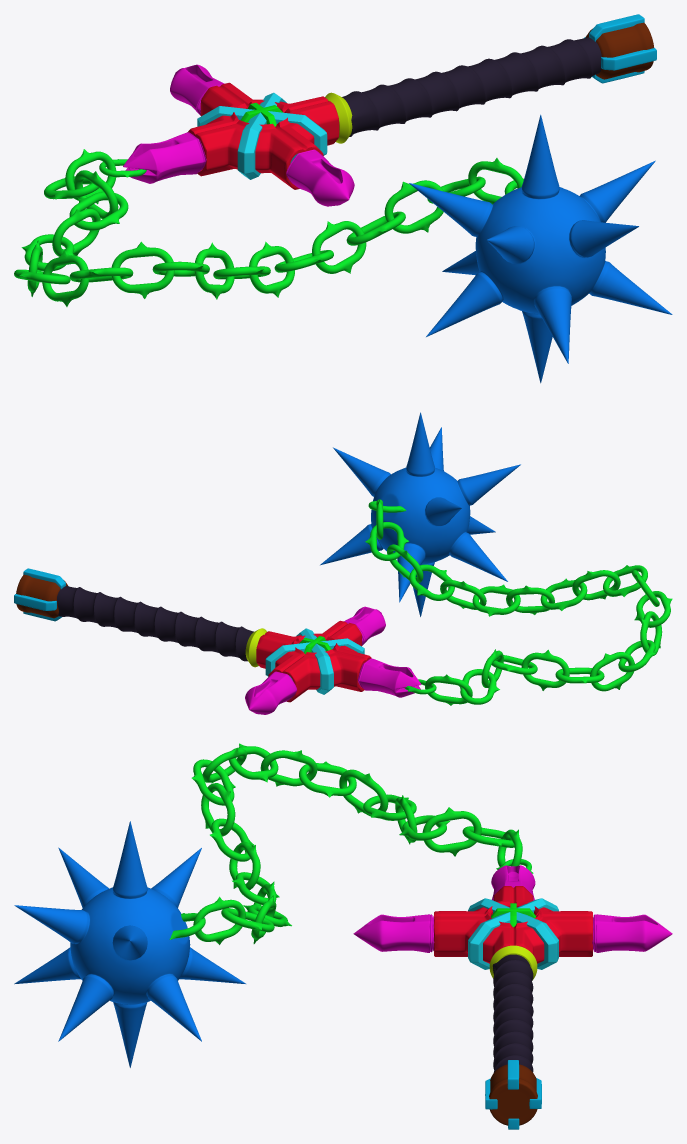
Rendered from mujvtrajis9-h1d.fbx.
3 renders of one model, top to bottom at view 1: azimuth 30°, elevation 25°; view 2: azimuth 150°, elevation 25°; view 3: azimuth 270°, elevation 25°, orthographic. The views are drawn at different scales.
Parts seen in each view (by area): view 1: Icosphere, Torus.024, Plane, Circle, Circle.002, Cube.001, Cylinder.001, Cube.003, Cylinder; view 2: Icosphere, Torus.024, Plane, Circle, Circle.002, Cube.001, Cylinder.001, Cube.003; view 3: Icosphere, Torus.024, Circle, Circle.002, Plane, Cube.001, Cylinder.001, Cube.003, Cylinder.
Boxes of the visible parts, x1,y1,x2,y2 form: Icosphere: [409, 114, 672, 383]; Torus.024: [14, 149, 523, 306]; Plane: [342, 37, 601, 136]; Circle: [187, 82, 339, 189]; Circle.002: [123, 64, 354, 206]; Cube.001: [197, 92, 327, 179]; Cylinder.001: [585, 22, 654, 79]; Cube.003: [584, 14, 656, 83]; Cylinder: [325, 92, 352, 143]; Icosphere: [320, 412, 520, 616]; Torus.024: [365, 499, 672, 705]; Plane: [57, 586, 253, 661]; Circle: [256, 620, 371, 702]; Circle.002: [245, 606, 421, 714]; Cube.001: [265, 628, 364, 694]; Cylinder.001: [16, 574, 68, 618]; Cube.003: [14, 568, 65, 621]; Icosphere: [14, 821, 245, 1067]; Torus.024: [169, 743, 533, 944]; Circle: [434, 886, 592, 963]; Circle.002: [353, 865, 672, 952]; Plane: [492, 954, 533, 1072]; Cube.001: [468, 898, 558, 969]; Cylinder.001: [489, 1064, 537, 1125]; Cube.003: [485, 1060, 541, 1129]; Cylinder: [489, 945, 537, 980].
Size of the model in its own units: 3370 by 1197 by 2885.
